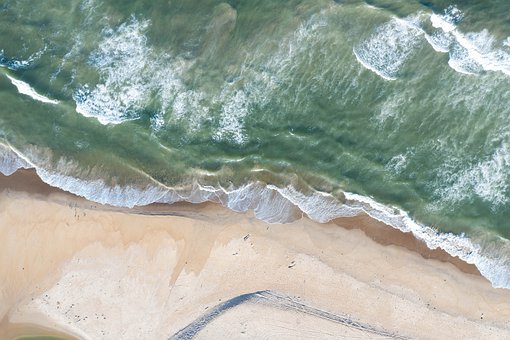beach: (6, 3, 499, 339)
